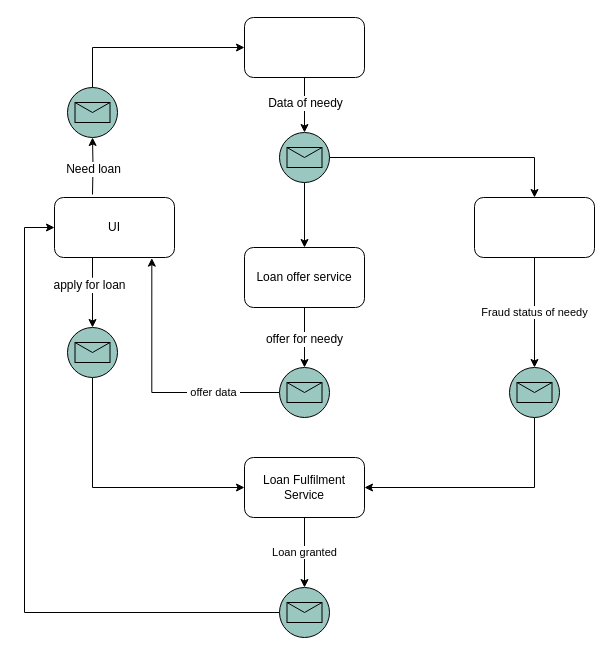
Image size: 612x655. Some labels were removed from this diagram. The shapes that lost their labels are listed below. From the top down, each one's centre as x and y in pixels, then its label:
the point at 304,47: Customer service
the point at 534,227: Screening Service
